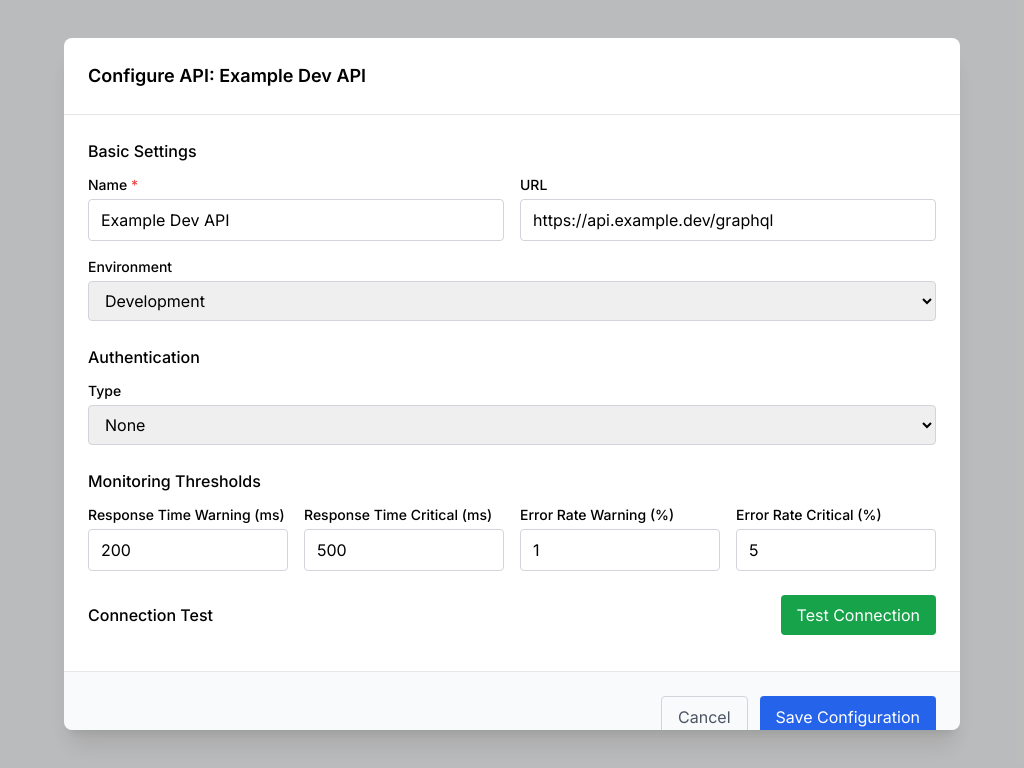
Test case: ApiConfigurationModal › should handle connection test success and failure
Step 1. Click the button with test id "test-connection-btn" → (858, 615), box 781,595 -> 936,635
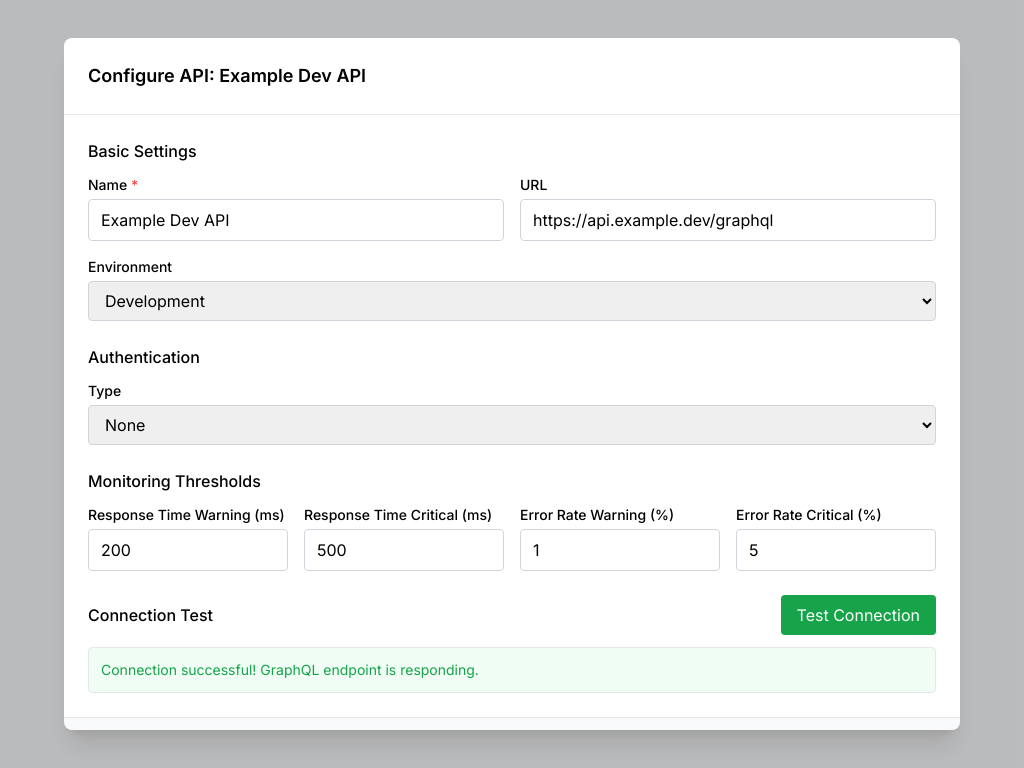
Now the text "Connection successful! GraphQL endpoint is responding." is shown, box 88,647 -> 936,693
Now the text with test id "connection-test-result" reads "Connection successful! GraphQL endpoint is responding.", box 101,661 -> 479,678
